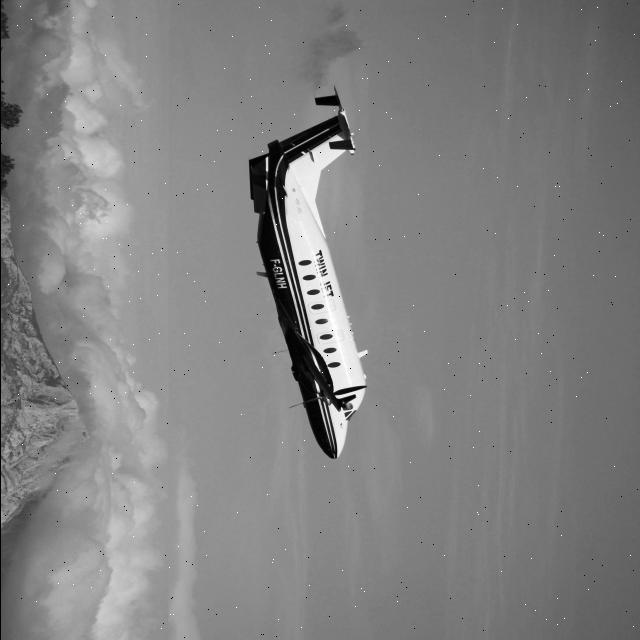jet: (191, 67, 468, 531)
